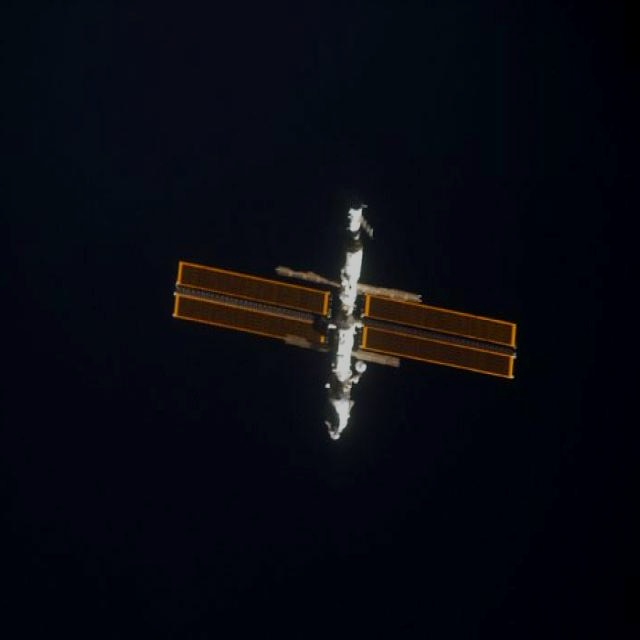satellite: (159, 182, 529, 458)
